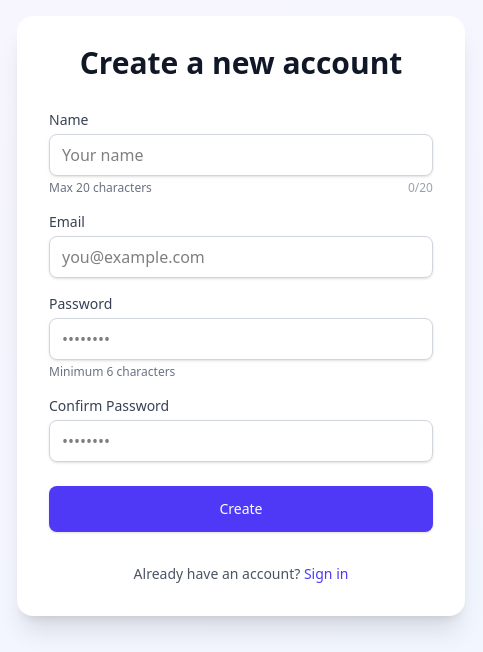
Test: Signup Component › should update character counter as user types name
Type "John" into the field labelled "Name" at (241, 155), box [49,134,433,176]
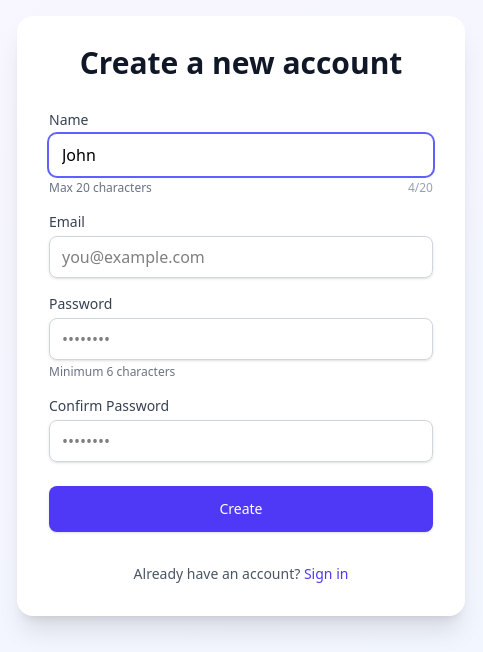
Expected: the text "4/20" is shown, [408,180,433,196]
